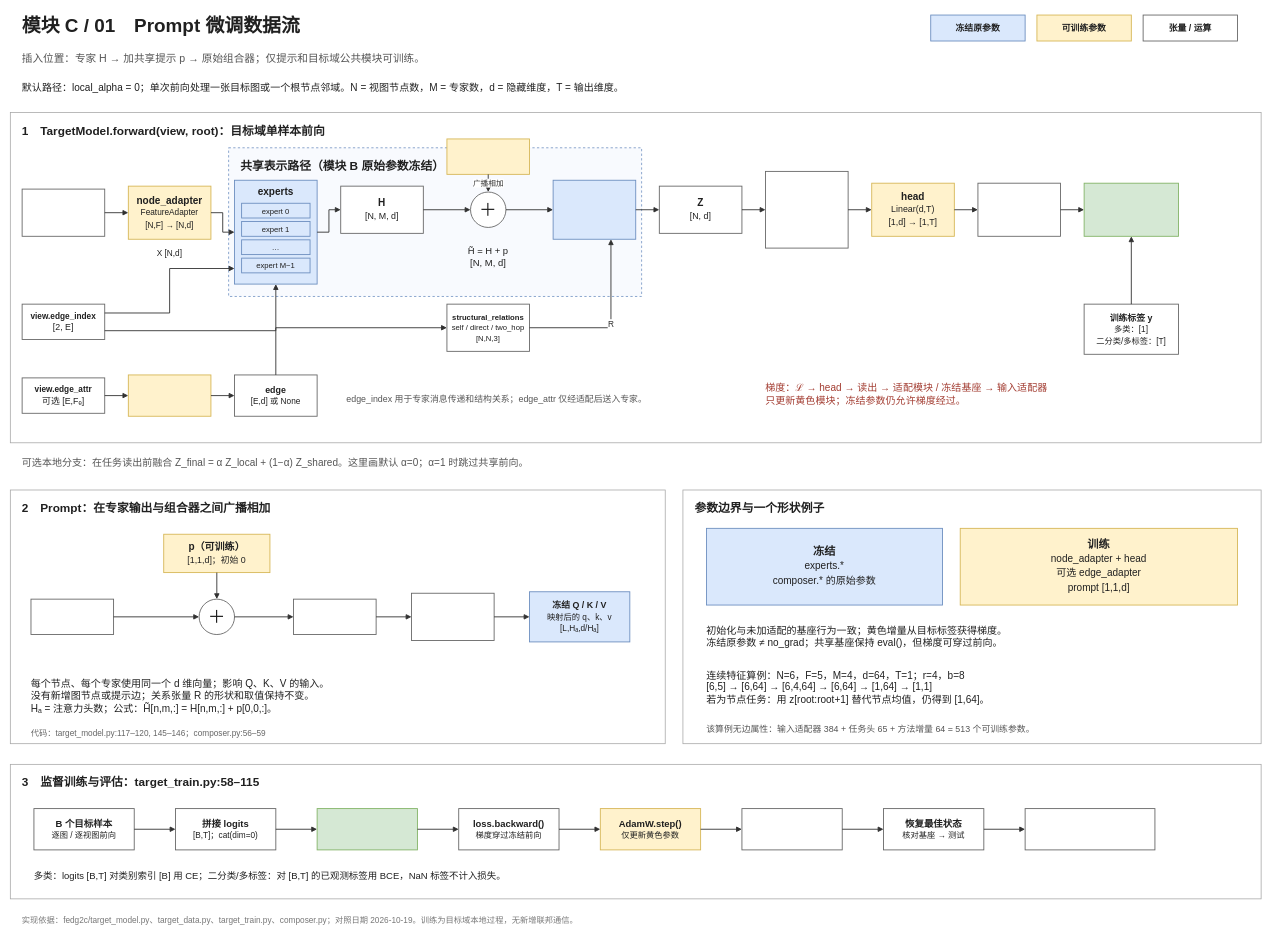
Some shapes in this 1272 by 938 pixel diagram are drawn without their labels. Here are the shapes that lost their labels. From the top down, the box of each, then its label:
(446, 138, 530, 175): prompt = p [1, 1, d]；初始为 0
(21, 188, 105, 236): view.x [N, F]
(552, 180, 636, 239): RelationComposer 原始参数冻结 输出 [N,d]
(765, 171, 848, 248): 任务读出（二选一） 图：mean(dim=0) 节点：z[root:root+1] 得到 [1,d]
(977, 182, 1061, 236): logits [1, T] 未做 sigmoid / softmax
(1083, 182, 1179, 236): classification_loss CE 或 BCEWithLogits 输出：标量 ℒ
(128, 374, 211, 416): edge_adapter [E,Fₑ] → [E,d] 有边属性时使用
(30, 598, 114, 635): H [N,M,d]
(293, 598, 376, 635): H̃ = H+p [N,M,d]
(411, 593, 494, 641): reshape [L,d] L = N×M
(316, 808, 418, 850): 分类监督损失 CE / BCEWithLogits
(741, 808, 842, 850): 验证集选 epoch 最低验证损失
(1024, 808, 1155, 850): 保存目标模型 target_model.pt
